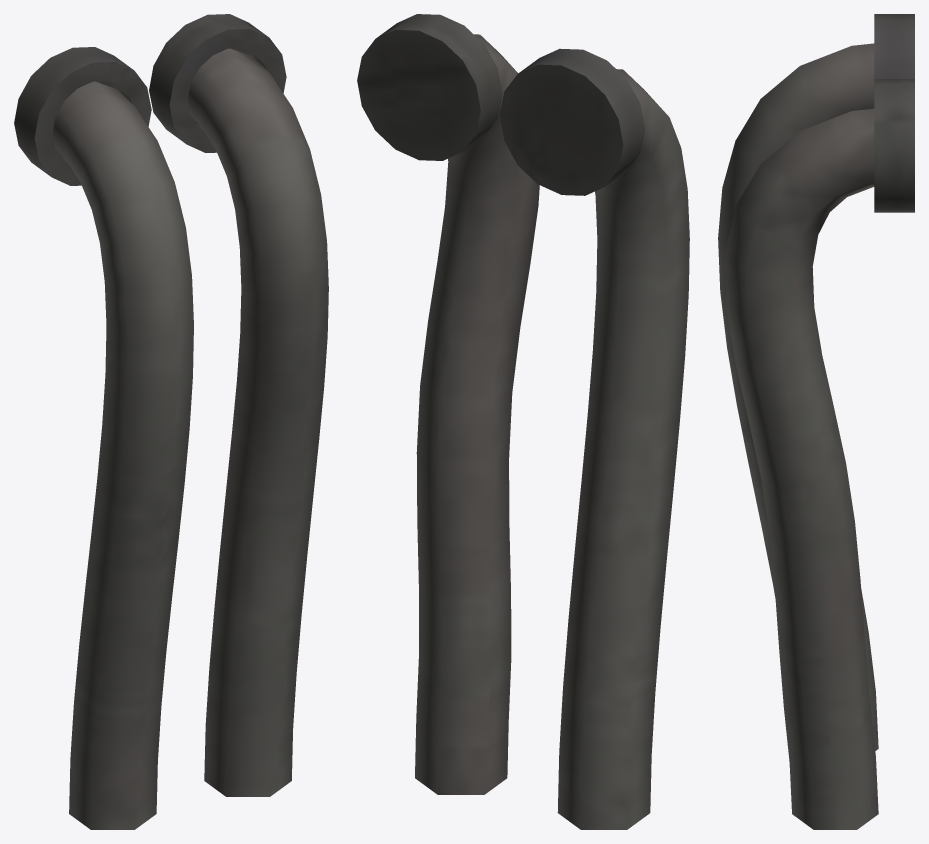
Rendered from cable_double_end.gltf.
3 views of the same model, side by side, from view 1: azimuth 30°, elevation 25°; view 2: azimuth 150°, elevation 25°; view 3: azimuth 270°, elevation 25° (orthographic). The views are drawn at different scales.
Visible parts, largest first — view 1: cable_double_end; view 2: cable_double_end; view 3: cable_double_end.
Boxes of the visible parts, left/top/right/bottom form: cable_double_end: left=14, top=14, right=328, bottom=829; cable_double_end: left=357, top=14, right=689, bottom=829; cable_double_end: left=718, top=14, right=914, bottom=829.
Size of the model in its own units: 0.0373 by 0.1041 by 0.0255.
Materials: 1 (1 with a texture image).
